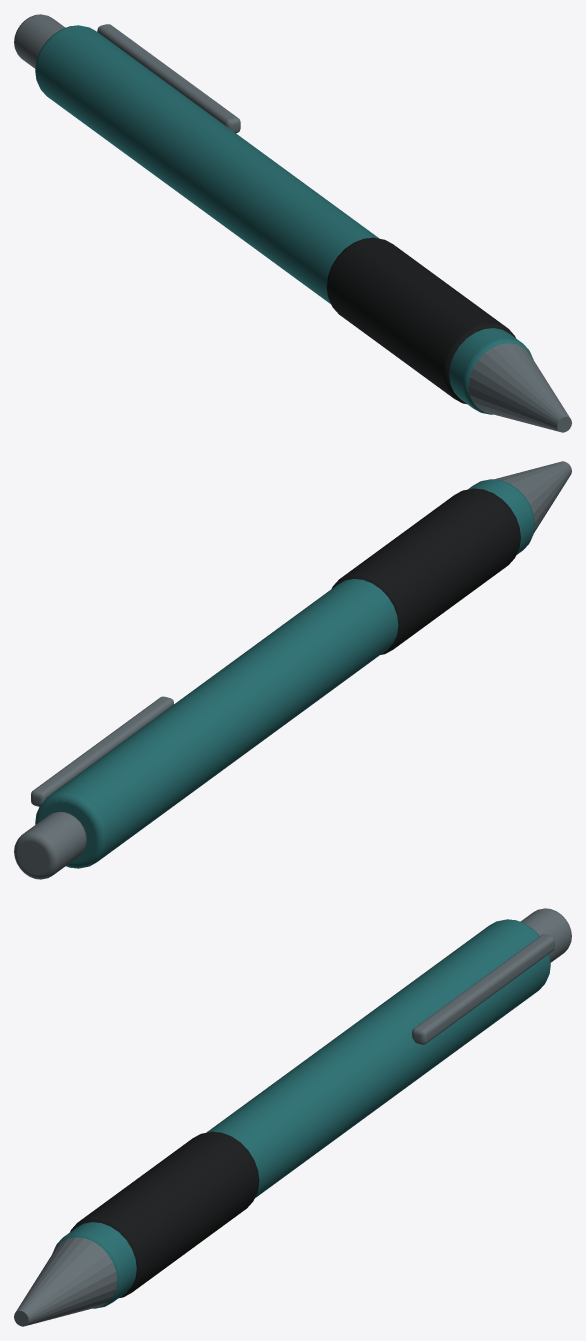
The model's file is pen_01.glb.
3 views of the same model, one above another, from view 1: azimuth 30°, elevation 25°; view 2: azimuth 150°, elevation 25°; view 3: azimuth 330°, elevation 25° (orthographic).
Parts seen in each view (by area): view 1: pen_01; view 2: pen_01; view 3: pen_01.
Part boxes in pixels (x1,y1,x2,y2): pen_01: (14,14,571,432); pen_01: (14,461,571,879); pen_01: (14,908,571,1326).
Size of the model in its own units: 0.0107 by 0.0104 by 0.1245.
Materials: 3 (3 with a texture image).
